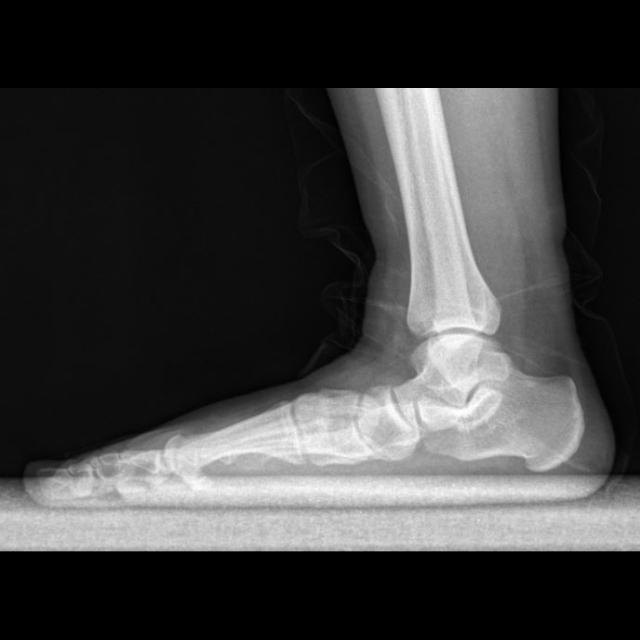a: (420, 366, 584, 472)
b: (356, 386, 416, 462)
c: (164, 399, 308, 478)
